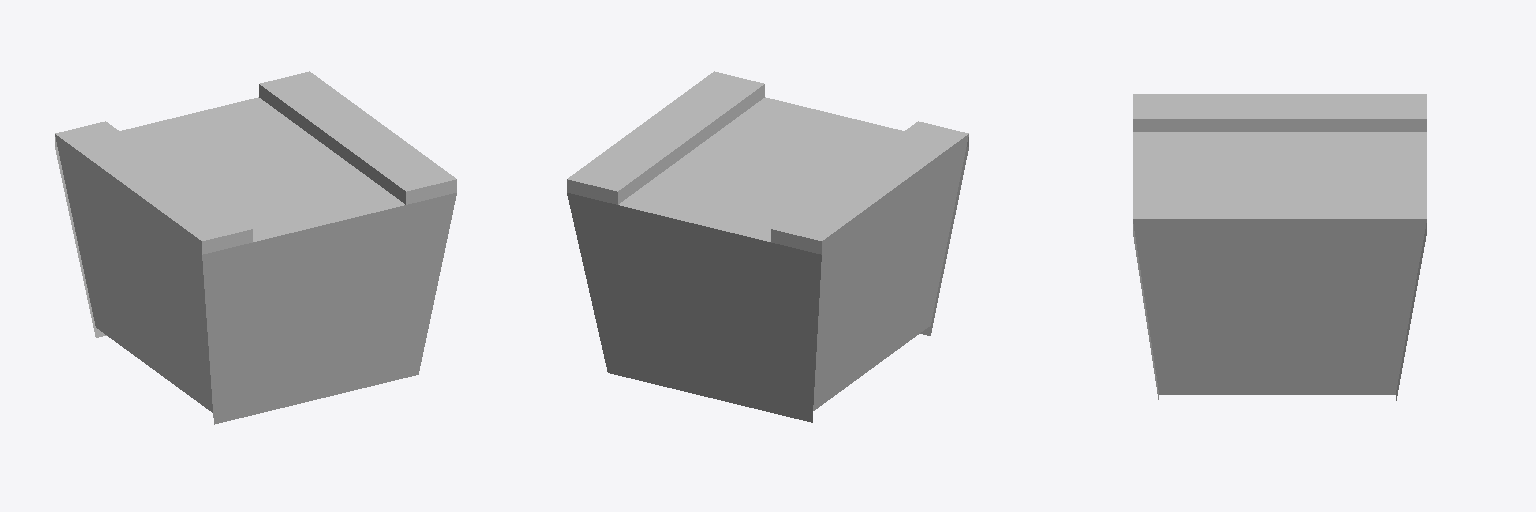
File: ground.obj
3 renders of one model, left to right at view 1: azimuth 30°, elevation 25°; view 2: azimuth 150°, elevation 25°; view 3: azimuth 270°, elevation 25°, orthographic.
Parts seen in each view (by area): view 1: Cube_Cube.004; view 2: Cube_Cube.004; view 3: Cube_Cube.004.
Boxes of the visible parts, x1,y1,x2,y2 form: Cube_Cube.004: [55, 71, 456, 424]; Cube_Cube.004: [567, 71, 968, 422]; Cube_Cube.004: [1133, 94, 1426, 400].
Size of the model in its own units: 10 by 7.46 by 10.